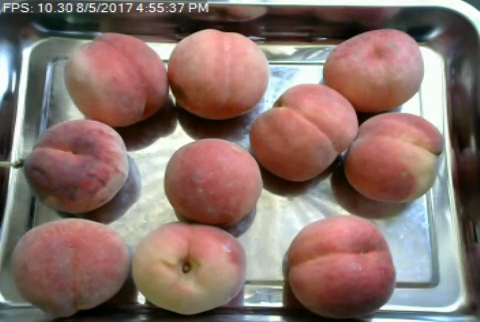Peach: (7, 217, 128, 316), (284, 214, 396, 319), (249, 83, 358, 182), (135, 222, 245, 316), (26, 116, 128, 213), (64, 32, 168, 127), (168, 26, 269, 120), (342, 112, 443, 203), (321, 25, 424, 114), (163, 137, 262, 226)
